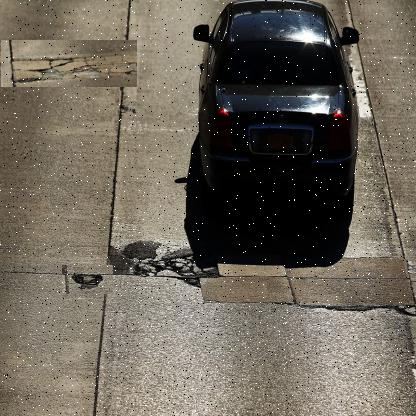crack: (0, 40, 137, 88)
damage: (110, 221, 216, 303)
pothole: (61, 265, 112, 295)
